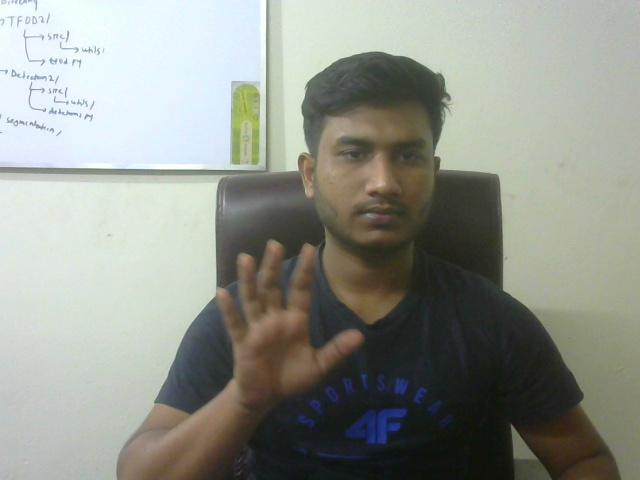Hello: (203, 231, 371, 417)
